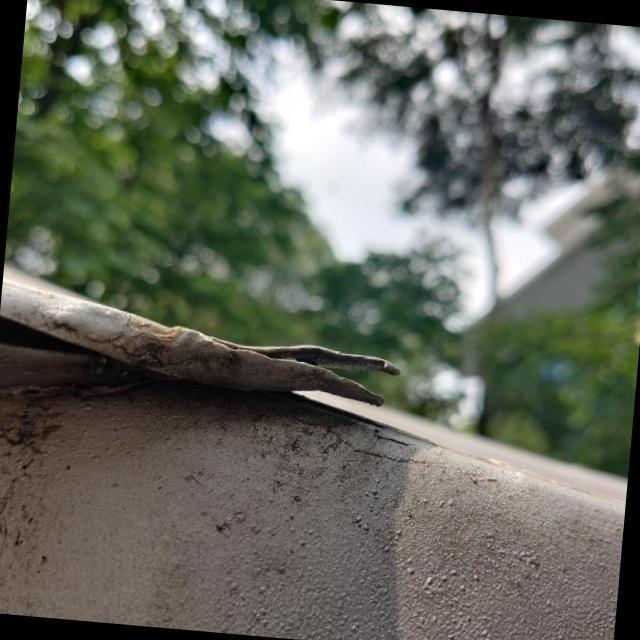Rupture: (195, 303, 422, 448)
